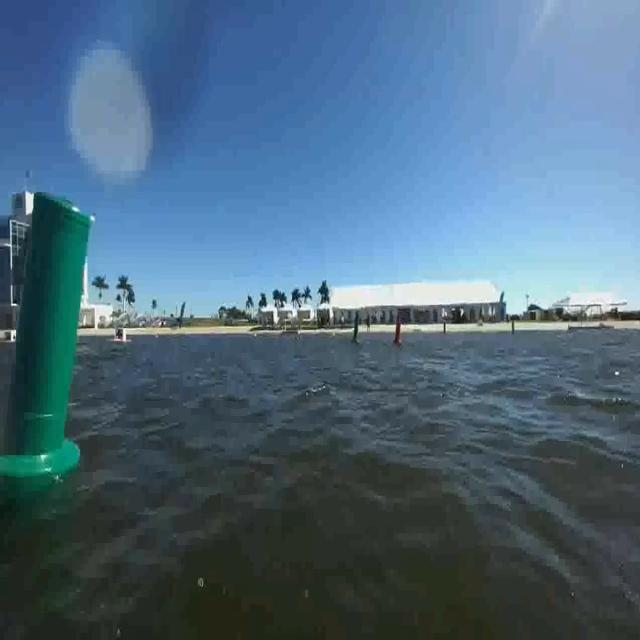green-column-buoy: (0, 198, 90, 487), (350, 313, 363, 348)
red-column-buoy: (392, 316, 404, 348)
